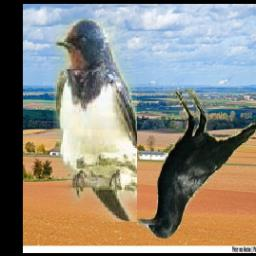Crow: (135, 89, 256, 238)
Swallow: (53, 19, 137, 223)
